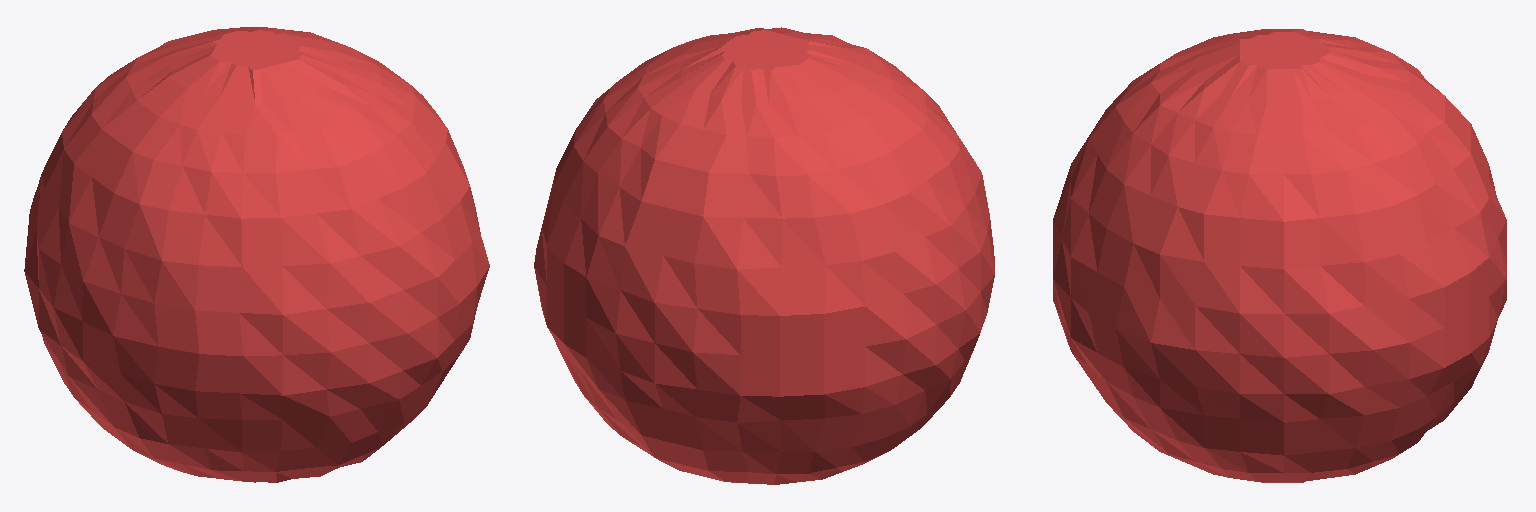
Rendered from oeil_gauche.obj.
3 views of the same model, side by side, from view 1: azimuth 30°, elevation 25°; view 2: azimuth 150°, elevation 25°; view 3: azimuth 270°, elevation 25° (orthographic).
Parts seen in each view (by area): view 1: Sphere02; view 2: Sphere02; view 3: Sphere02.
Part boxes in pixels (left/top/right/bottom): Sphere02: left=24, top=27, right=489, bottom=482; Sphere02: left=534, top=27, right=994, bottom=484; Sphere02: left=1053, top=29, right=1506, bottom=482.
Size of the model in its own units: 0.52 by 0.51 by 0.51.